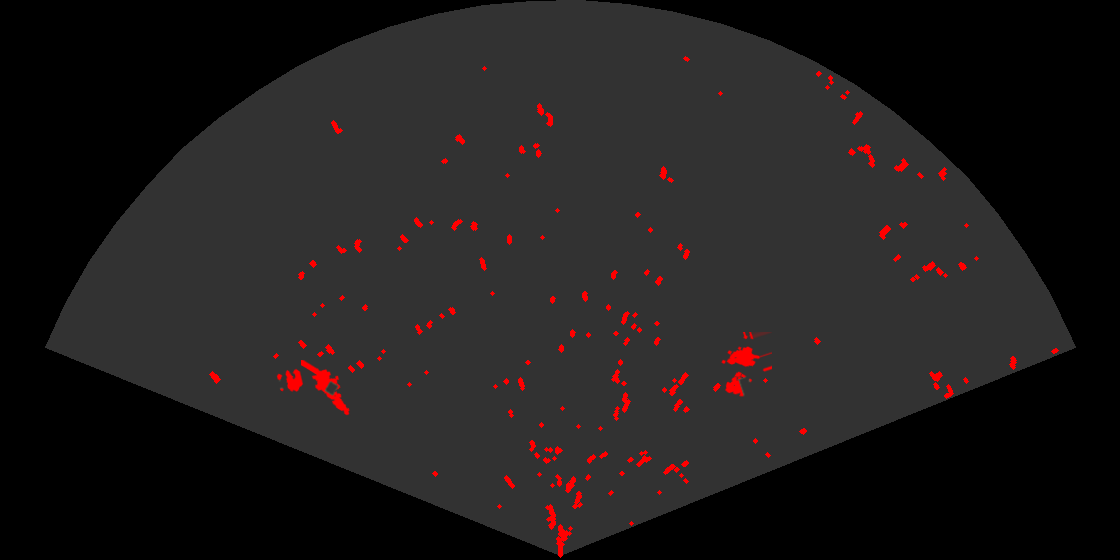ball: (275, 367, 305, 394)
cage: (720, 332, 772, 399)
frogman: (301, 360, 351, 417)
